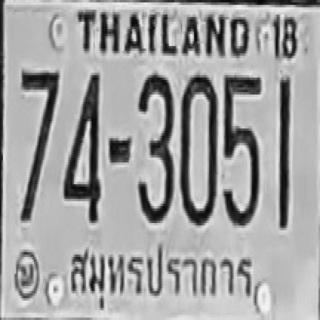N00: (180, 73, 217, 223)
N01: (276, 78, 290, 228), (278, 76, 290, 227)
N03: (136, 74, 173, 222)
N04: (62, 72, 101, 222)
N05: (222, 74, 261, 224)
N07: (20, 69, 60, 222), (21, 69, 59, 188)
P57: (65, 237, 256, 307)
